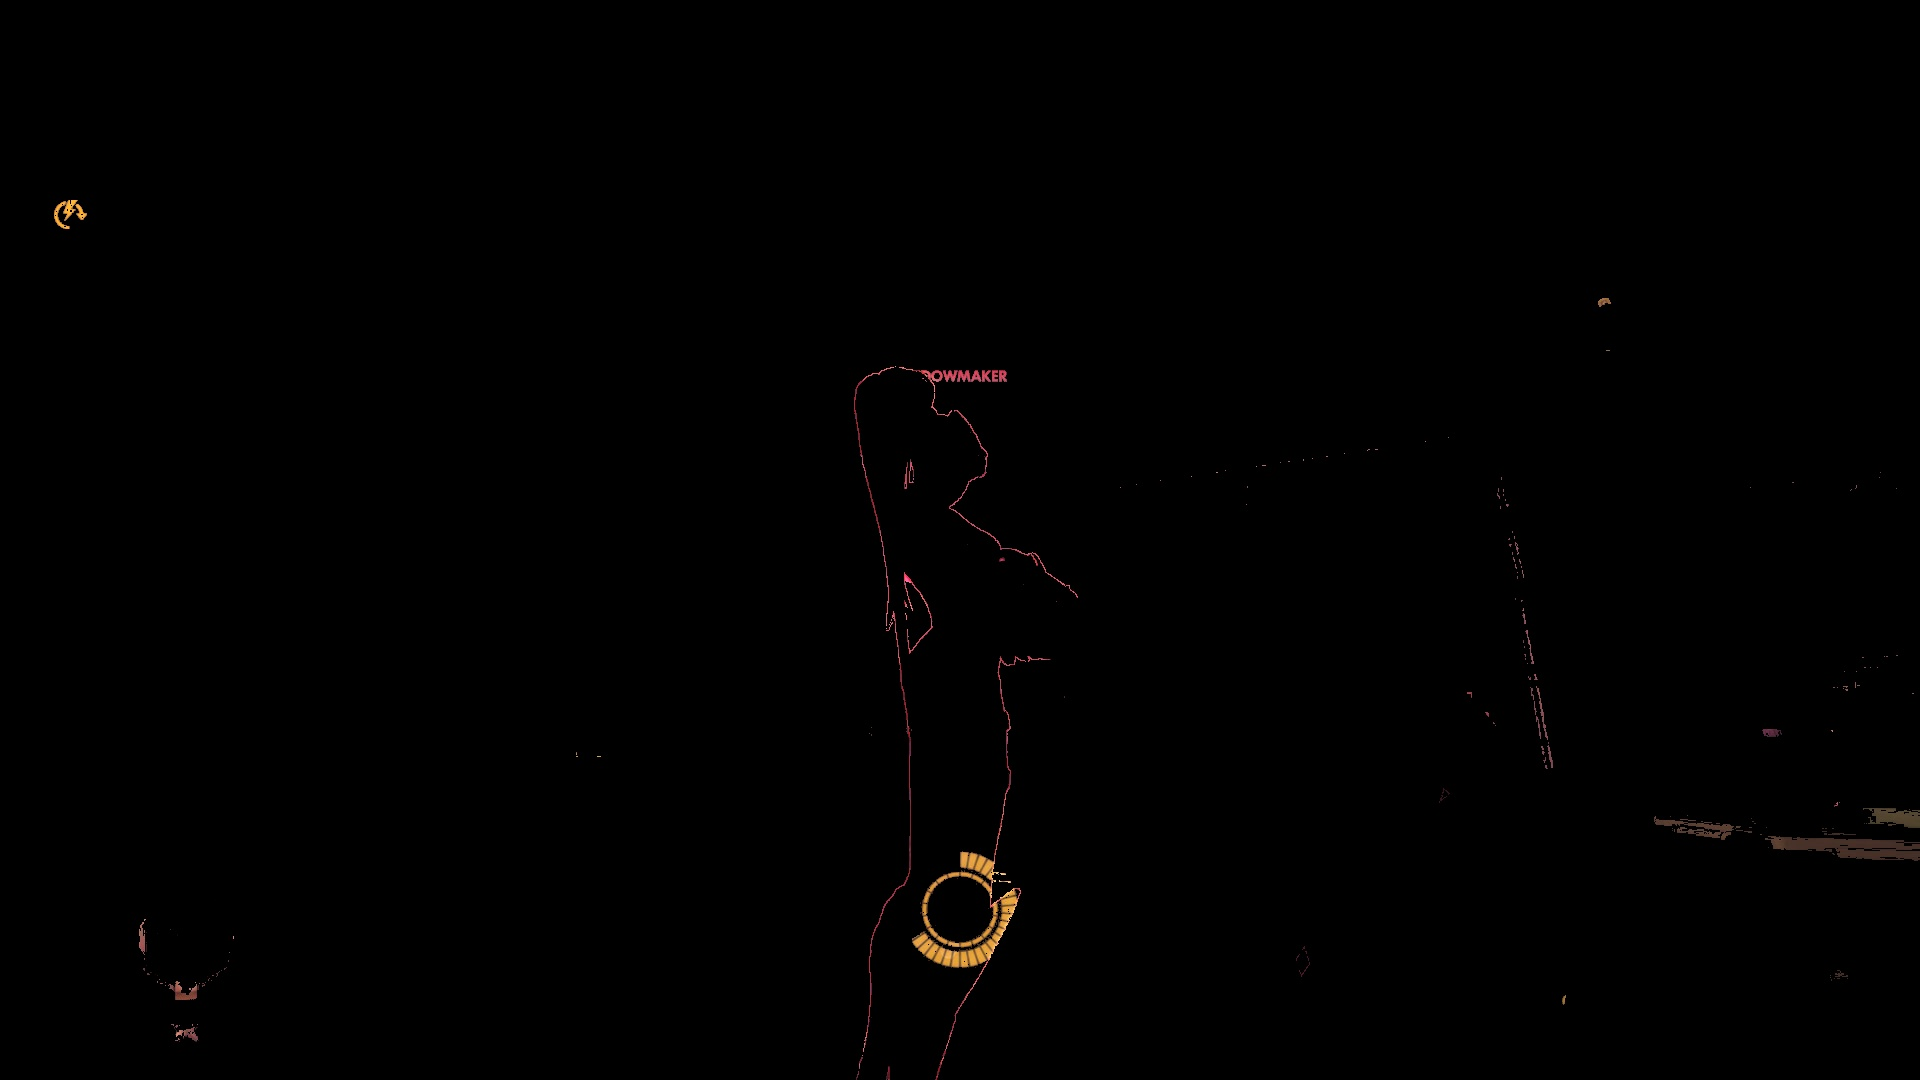widowmaker: (853, 367, 1079, 1080)
